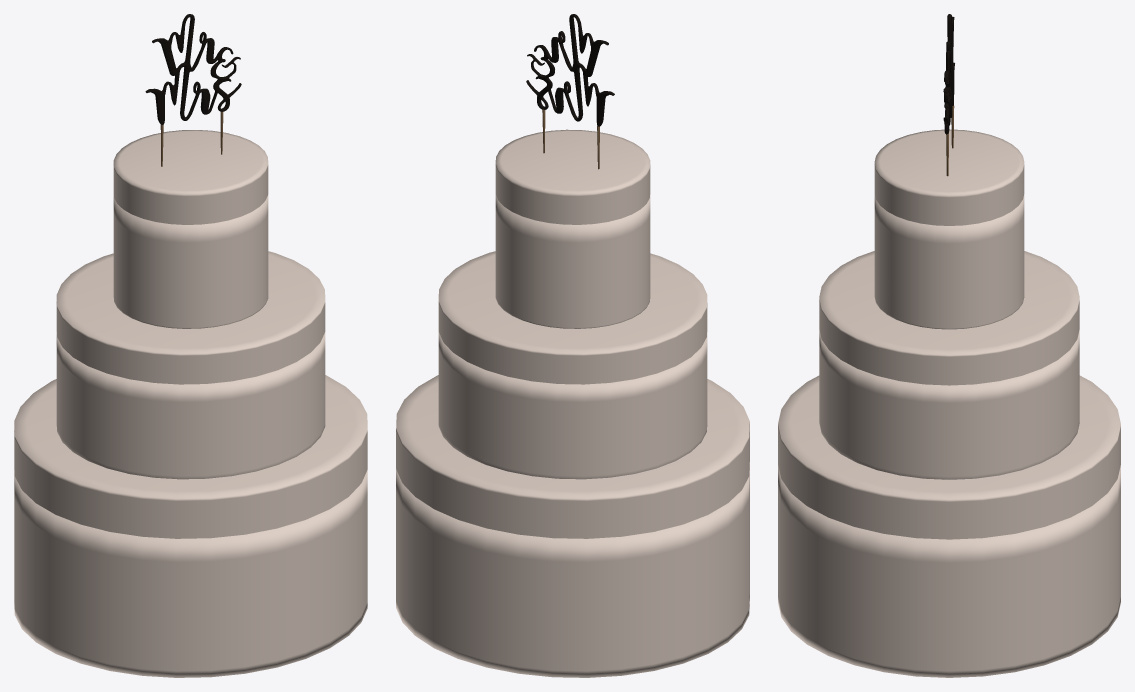
File: 3-tier-white-none-mrms.glb
3 renders of one model, left to right at view 1: azimuth 30°, elevation 25°; view 2: azimuth 150°, elevation 25°; view 3: azimuth 270°, elevation 25°, orthographic.
Parts seen in each view (by area): view 1: Cylinder.022, Cylinder.014, Cylinder.021, mrms.003; view 2: Cylinder.022, Cylinder.014, Cylinder.021, mrms.003; view 3: Cylinder.022, Cylinder.014, Cylinder.021, mrms.003.
Part boxes in pixels (box(x1,y1,x2,y2)): Cylinder.022: box(14, 375, 367, 677); Cylinder.014: box(56, 251, 325, 479); Cylinder.021: box(113, 130, 268, 328); mrms.003: box(145, 14, 241, 166); Cylinder.022: box(396, 375, 749, 677); Cylinder.014: box(438, 251, 707, 479); Cylinder.021: box(495, 129, 650, 328); mrms.003: box(526, 14, 614, 169); Cylinder.022: box(778, 375, 1120, 677); Cylinder.014: box(819, 251, 1079, 479); Cylinder.021: box(874, 129, 1024, 329); mrms.003: box(943, 14, 954, 176).
Bounding box in the file's own units: 4.22 × 7.67 × 4.06.
